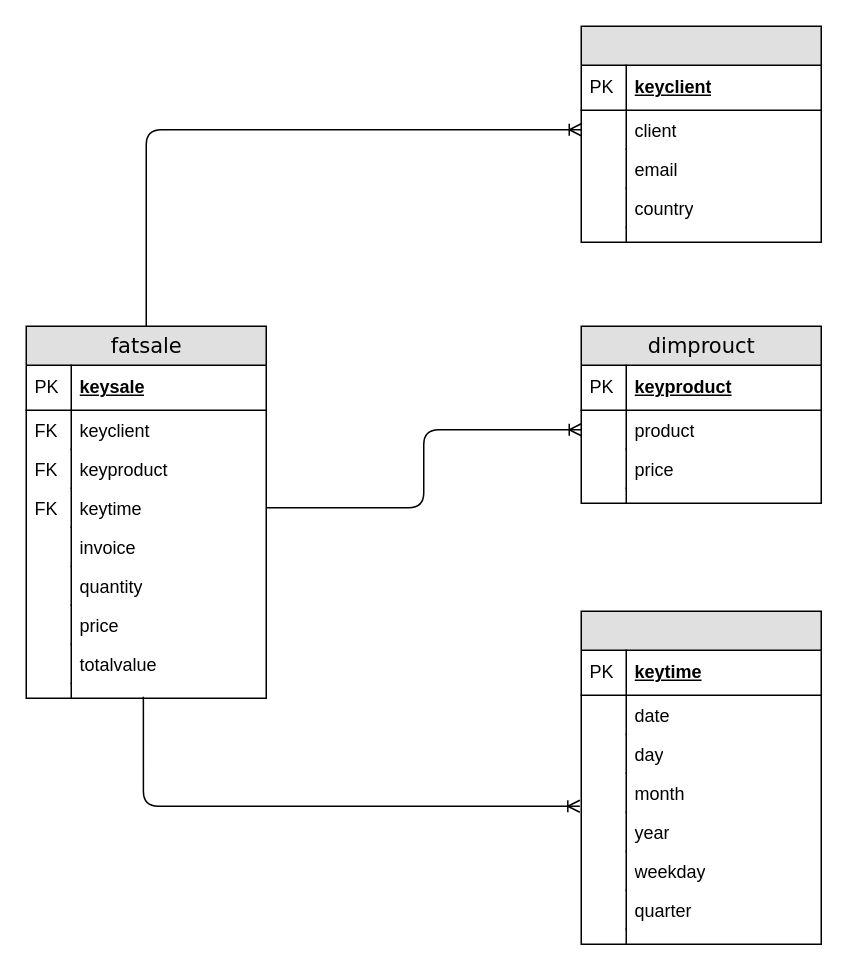
Some shapes in this 848 by 971 pixel diagram are drawn without their labels. Here are the shapes that lost their labels. From the top down, the box of each, then its label:
(580, 25, 821, 242): dimclient
(580, 610, 821, 944): dimtime
